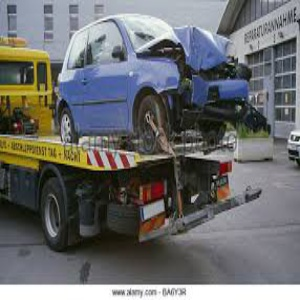bonnet: (165, 21, 233, 69)
bumper: (182, 72, 257, 136)
